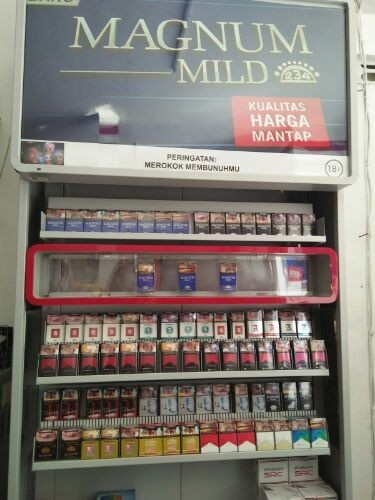A Mild 12: (232, 322, 246, 341), (215, 323, 228, 342)
A Mild 16: (63, 324, 81, 343), (120, 323, 138, 342), (48, 324, 63, 346), (83, 325, 100, 344), (103, 323, 118, 344)
A Mild Menthol 16: (161, 323, 179, 342), (181, 323, 198, 343), (140, 323, 157, 342), (198, 323, 215, 341)
Avolution Menthol 20: (280, 321, 298, 339), (297, 321, 313, 339)
Avolution Red 20: (247, 321, 264, 340), (263, 320, 280, 339)
Dji Sam Soe 16: (139, 437, 162, 457), (181, 436, 200, 455), (162, 437, 181, 455)
Dji Sam Soe Super Premium 12: (59, 440, 79, 460), (37, 441, 57, 460)
Magnum Filter 12: (281, 394, 297, 411), (266, 394, 280, 412), (286, 223, 302, 238), (301, 222, 317, 237), (226, 222, 241, 237), (273, 223, 288, 238), (298, 395, 313, 410), (195, 221, 210, 235), (241, 223, 256, 237), (257, 223, 273, 236), (211, 221, 225, 235)
Magnum Mild 16: (220, 274, 237, 293), (137, 274, 155, 291), (179, 275, 196, 293)
Magnum Mild 20: (172, 219, 190, 235), (102, 219, 120, 234), (137, 219, 155, 234), (155, 219, 173, 234), (45, 218, 64, 232), (83, 220, 102, 234), (120, 219, 137, 234), (65, 219, 83, 233)
Marlboro Filter Black 20: (79, 355, 99, 376), (58, 356, 78, 376), (202, 352, 222, 372), (100, 354, 119, 375), (138, 352, 157, 373), (239, 351, 257, 373), (39, 357, 58, 377), (120, 352, 137, 374), (183, 352, 201, 372), (221, 352, 239, 372), (258, 351, 275, 370), (276, 351, 293, 370), (163, 352, 179, 372), (311, 351, 327, 371), (295, 351, 311, 370)
Marlboro Ice Burst 20: (294, 431, 311, 449), (312, 431, 328, 447)
Marlboro Light 20: (257, 432, 275, 450), (275, 432, 291, 450)
Marlboro Red 20: (237, 432, 256, 450), (219, 433, 237, 451), (200, 435, 218, 452)
Sampoerna Hijau 12: (99, 439, 119, 458), (81, 441, 100, 458), (119, 439, 139, 455)
U Mild 12: (236, 395, 251, 413), (251, 394, 265, 413)
U Mild 16: (139, 397, 158, 418), (160, 397, 178, 417), (177, 396, 195, 416), (213, 395, 230, 415), (196, 396, 213, 415)
U Mild Bold 16: (100, 398, 119, 420), (120, 398, 139, 420), (60, 399, 79, 420), (42, 400, 59, 420), (87, 398, 102, 420)
display-magnum: (24, 1, 355, 179)
